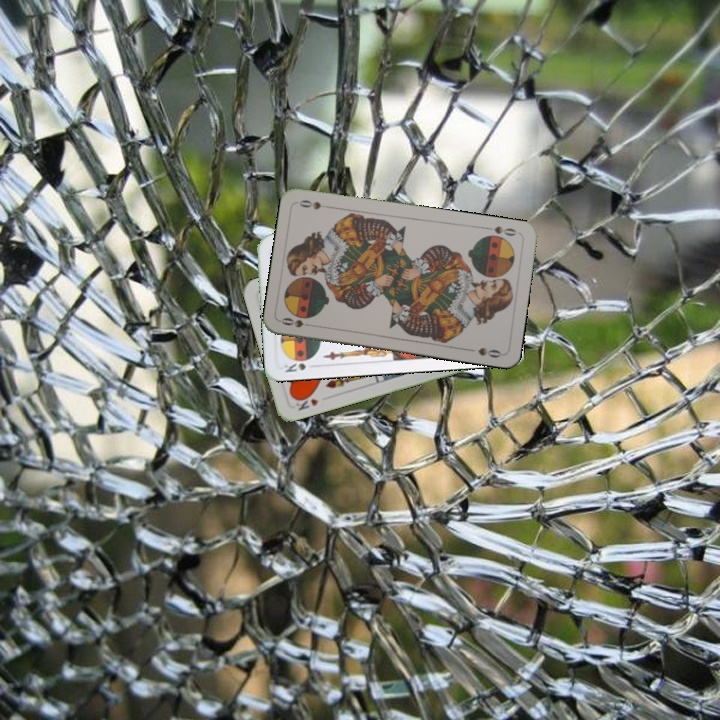HK: (291, 391, 321, 413)
SK: (280, 359, 309, 375)
SO: (277, 313, 318, 330), (481, 222, 522, 239)
